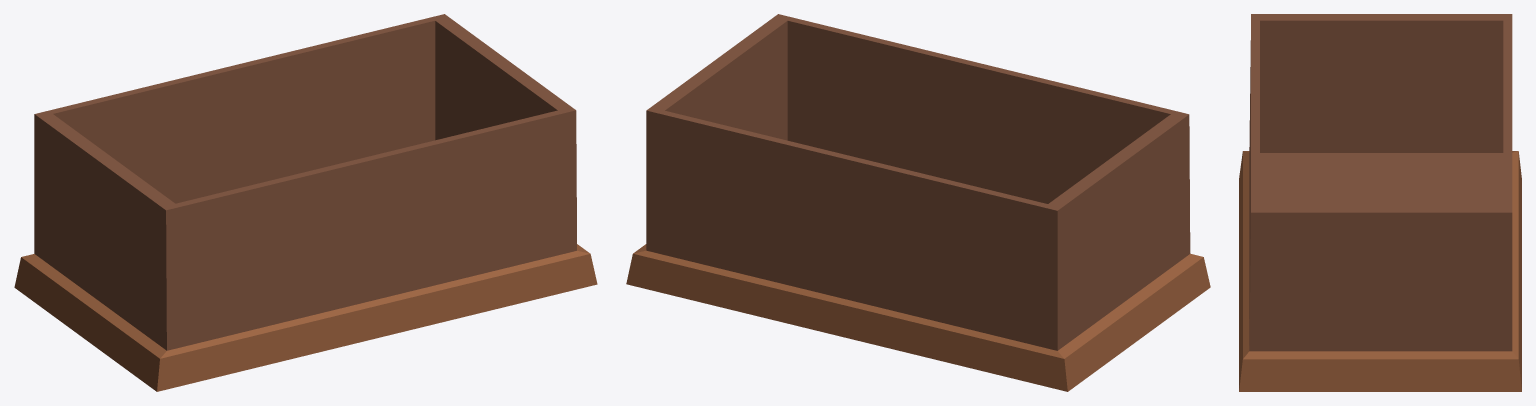
File: Caixa_4.fbx
The picture shows the model from 3 angles, left to right: view 1: azimuth 30°, elevation 25°; view 2: azimuth 150°, elevation 25°; view 3: azimuth 270°, elevation 25°; orthographic projection.
Visible parts, largest first — view 1: Caixa_4; view 2: Caixa_4; view 3: Caixa_4.
Boxes of the visible parts, <box> form: Caixa_4: <box>14,14,597,391</box>; Caixa_4: <box>626,14,1210,391</box>; Caixa_4: <box>1239,14,1521,391</box>.
Size of the model in its own units: 0.8011 by 1.43 by 0.5376.
